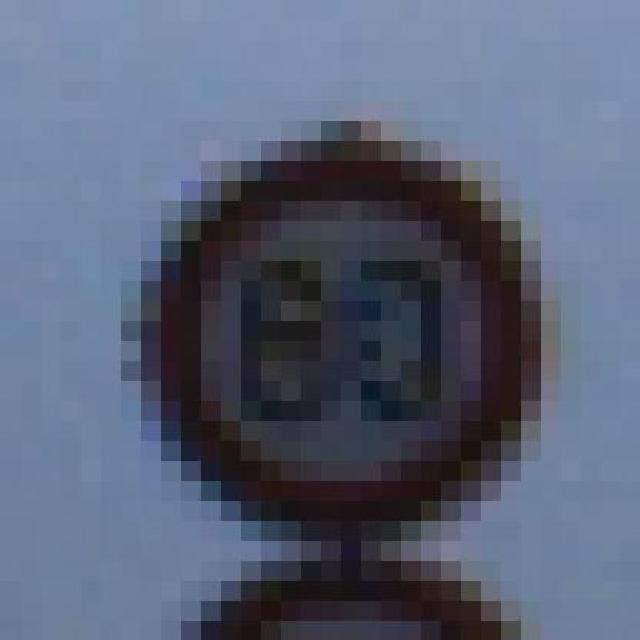forb_speed_over_80: (156, 159, 527, 524)
